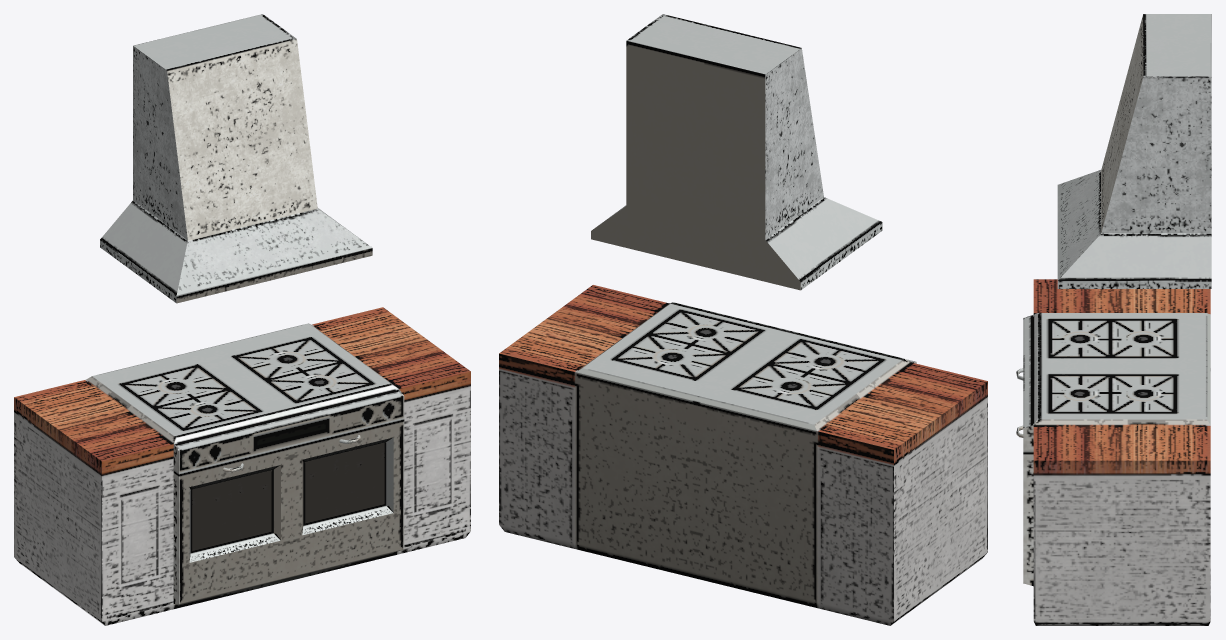
The model's file is StoveUnit.fbx.
3 renders of one model, left to right at view 1: azimuth 30°, elevation 25°; view 2: azimuth 150°, elevation 25°; view 3: azimuth 270°, elevation 25°, orthographic. The views are drawn at different scales.
Parts seen in each view (by area): view 1: polySurface26, polySurface21; view 2: polySurface26, polySurface21; view 3: polySurface26, polySurface21.
Part boxes in pixels (x1,y1,x2,y2): polySurface26: (14, 307, 470, 625); polySurface21: (100, 14, 372, 303); polySurface26: (499, 285, 987, 625); polySurface21: (591, 14, 882, 290); polySurface26: (1016, 279, 1210, 625); polySurface21: (1057, 14, 1211, 288).
Bounding box in the file's own units: 256 × 324 × 117.
